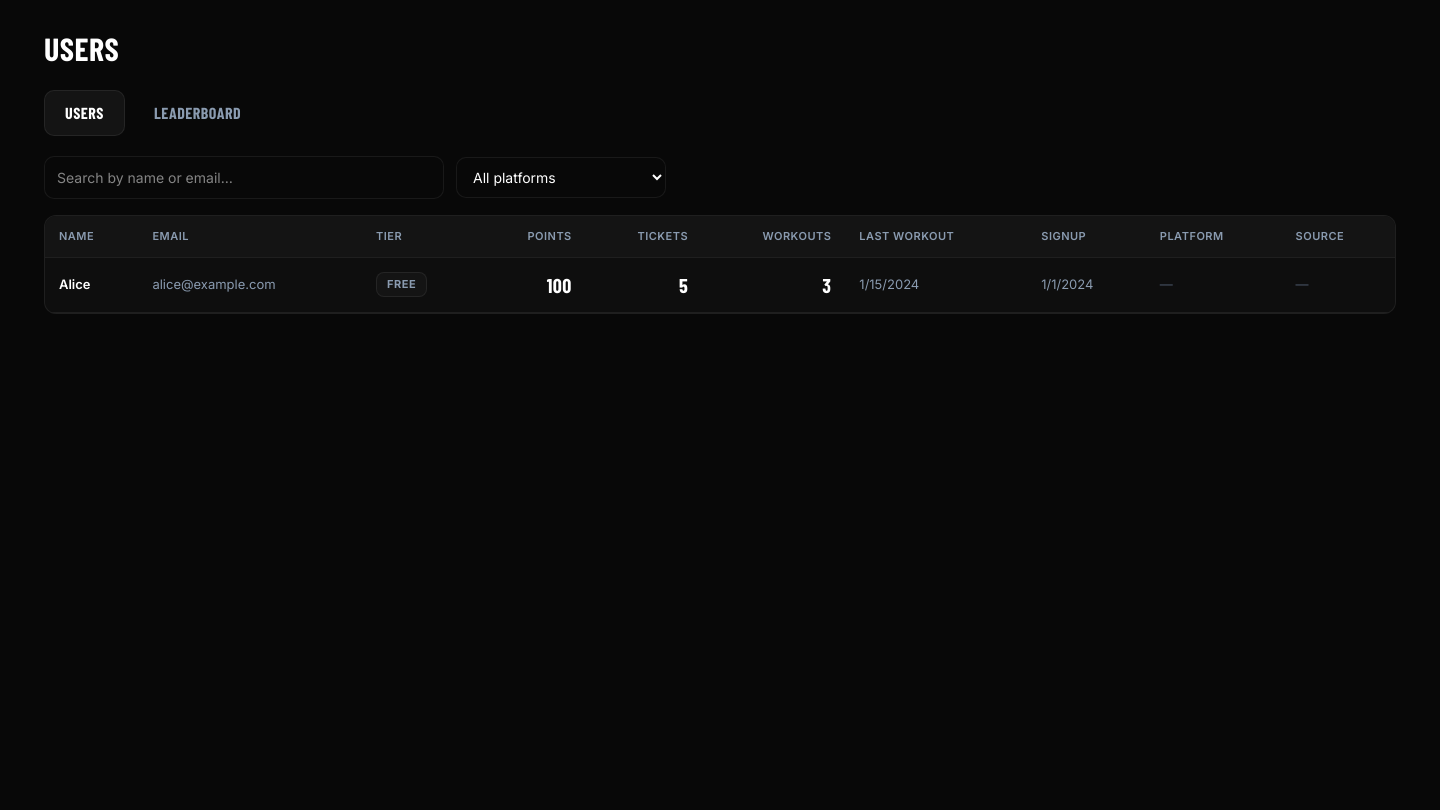
Test: UsersPage - time-limited tier grants › defaults the duration control to Indefinite
The width and height of the screenshot is (1440, 810).
Click the text "Alice".
click(720, 284)  # box left=45, top=257, right=1395, bottom=312
(page scrolled)
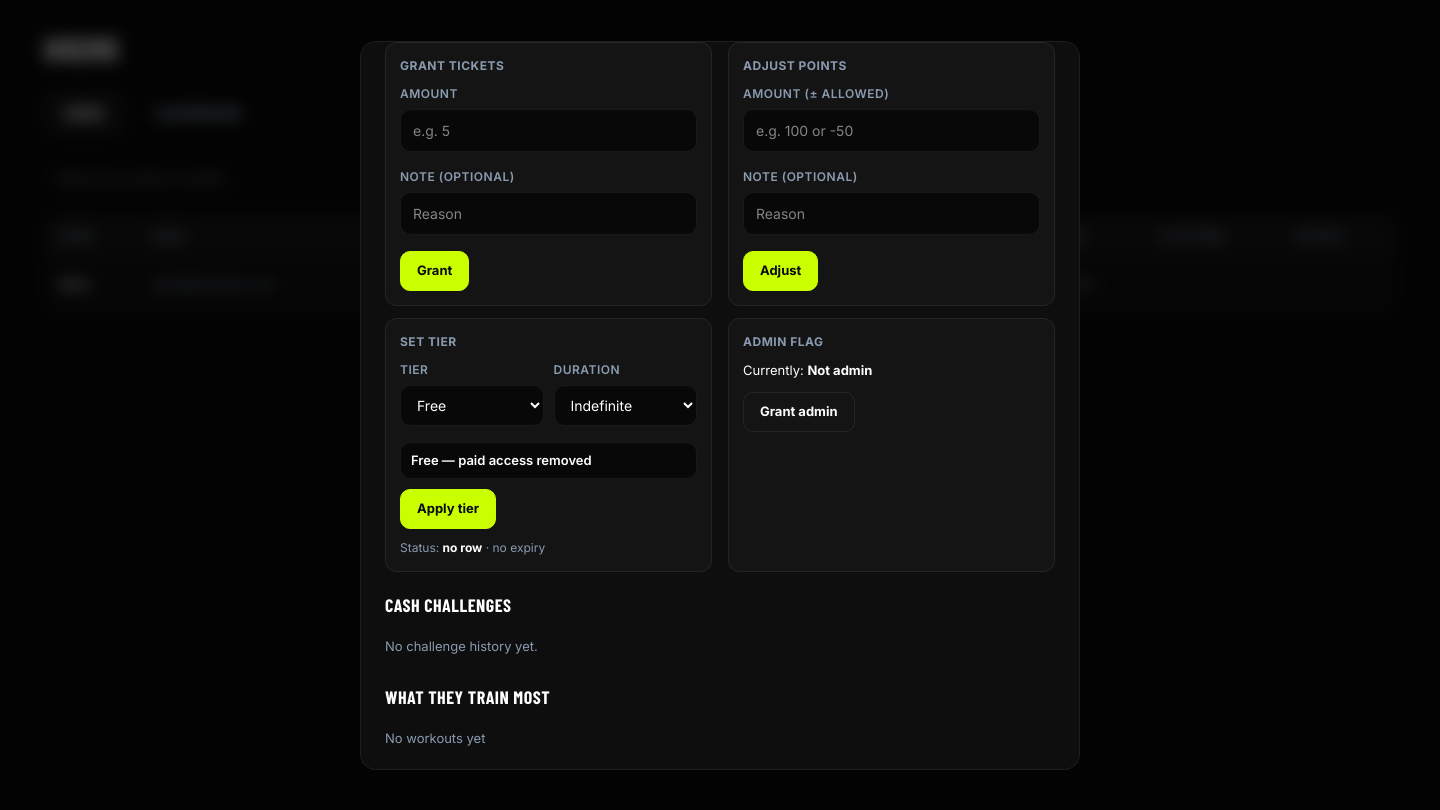
Expected: the dropdown labelled "Duration" shows "Indefinite", left=554, top=384, right=697, bottom=426
